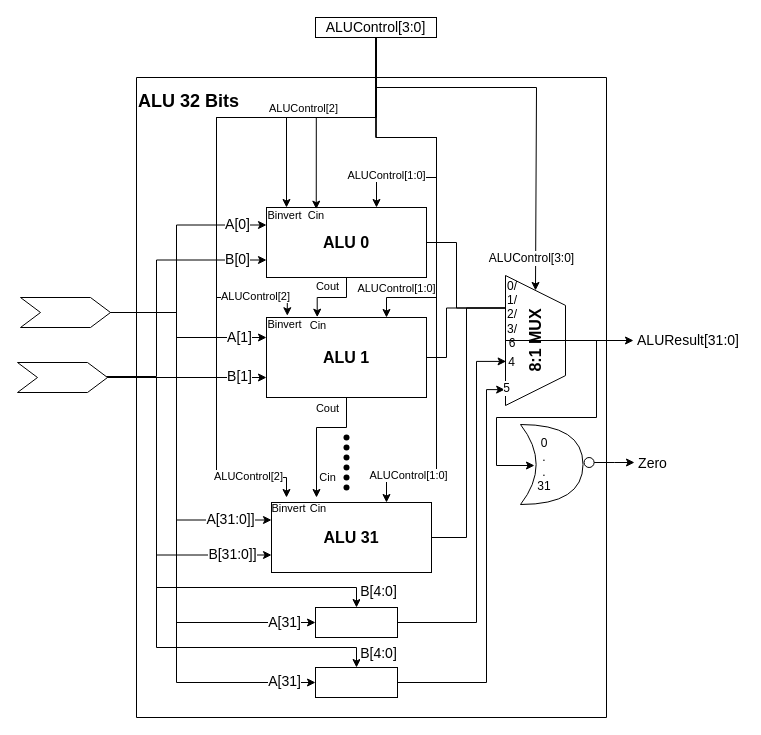
Some shapes in this 761 by 735 pixel diagram are drawn without their labels. The centre of each missing label's shape, as x and y in pixels:
"A[31:0]" belongs at point 65,312.
"B[31:0]" belongs at point 62,377.
"SLL" belongs at point 356,622.
"SRL" belongs at point 356,682.
